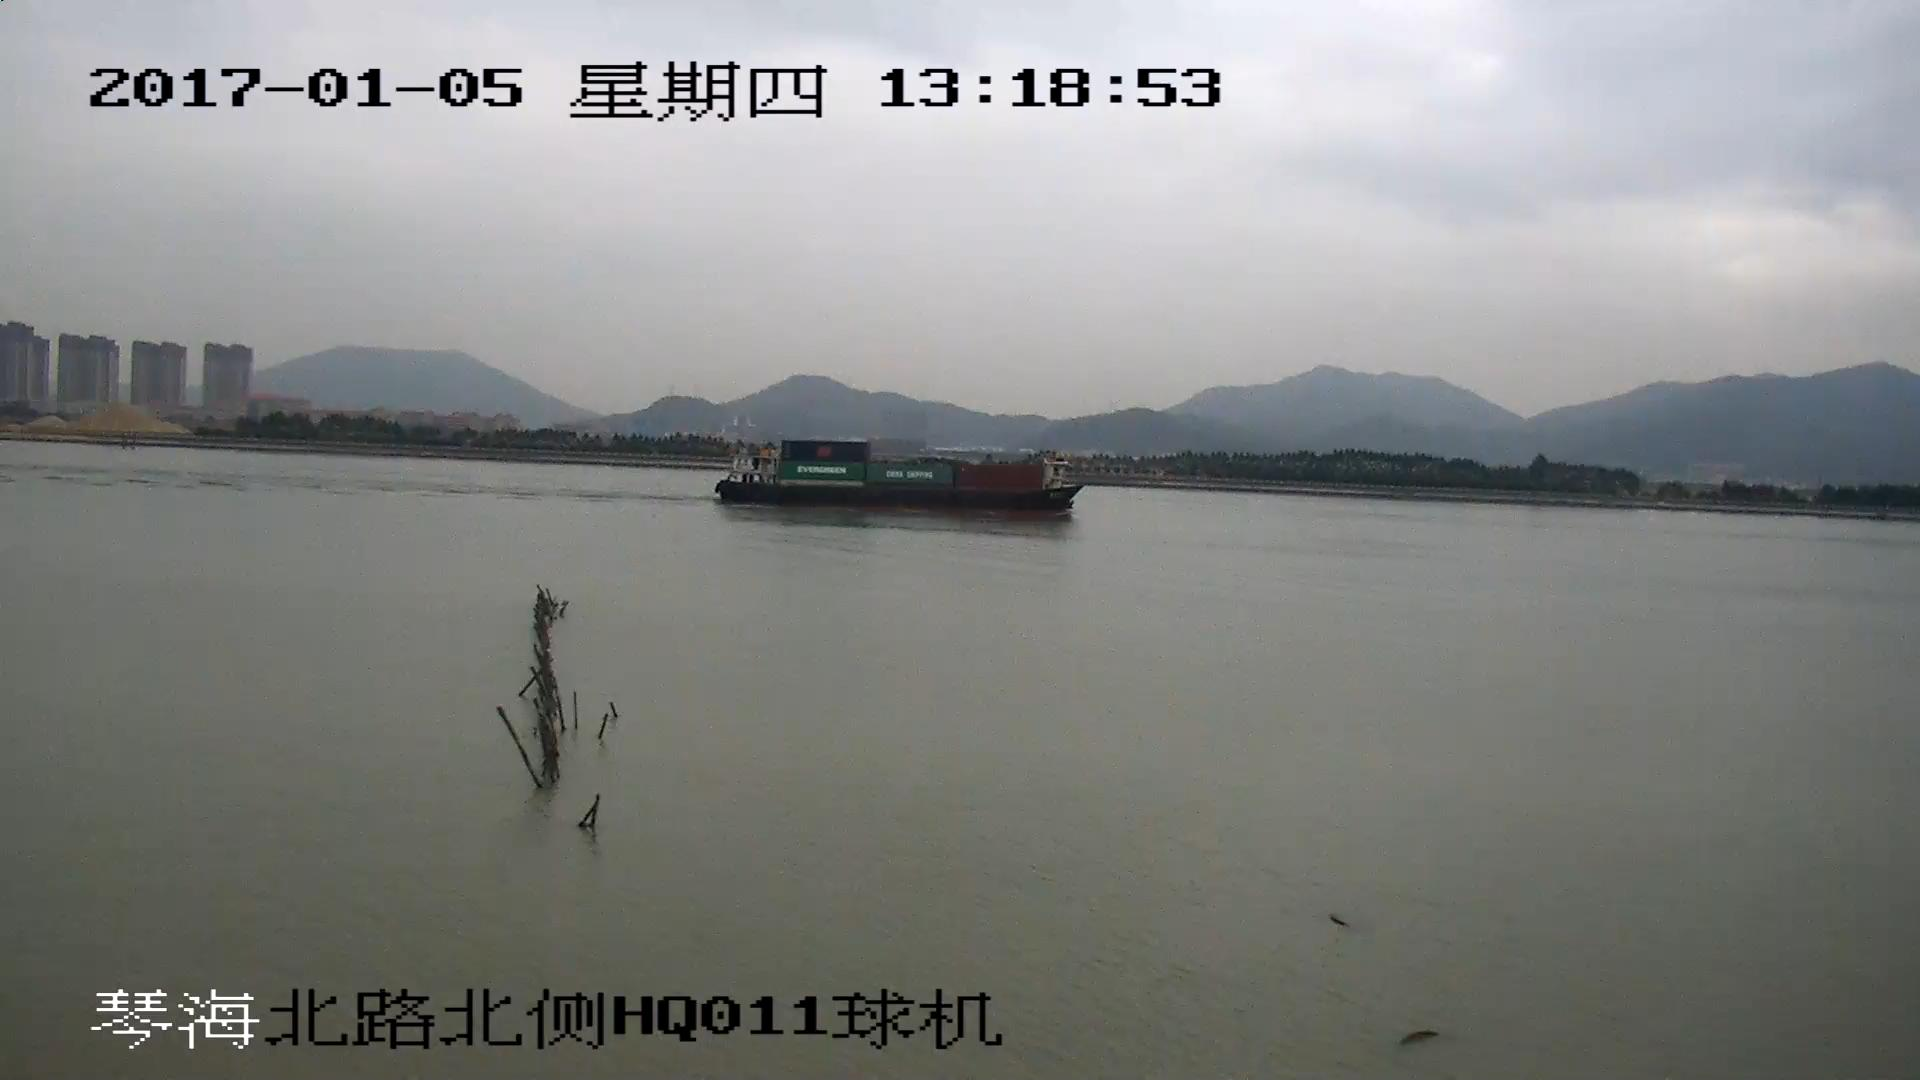container ship: (713, 437, 1082, 516)
